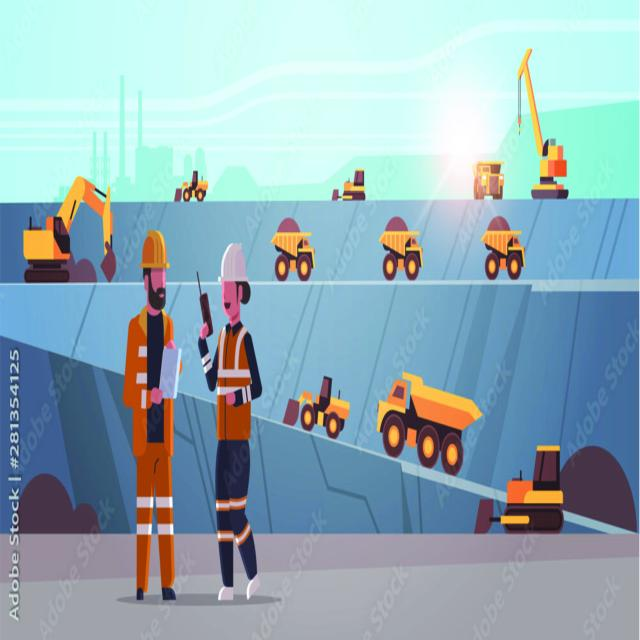buldozerpayloadergrader: (473, 434, 588, 542), (286, 364, 355, 452), (160, 138, 213, 210), (329, 156, 376, 209)
dump_truck: (376, 353, 485, 475), (264, 207, 328, 296), (476, 212, 531, 286), (376, 212, 430, 278), (469, 153, 509, 203)
excavator: (11, 148, 118, 300)
